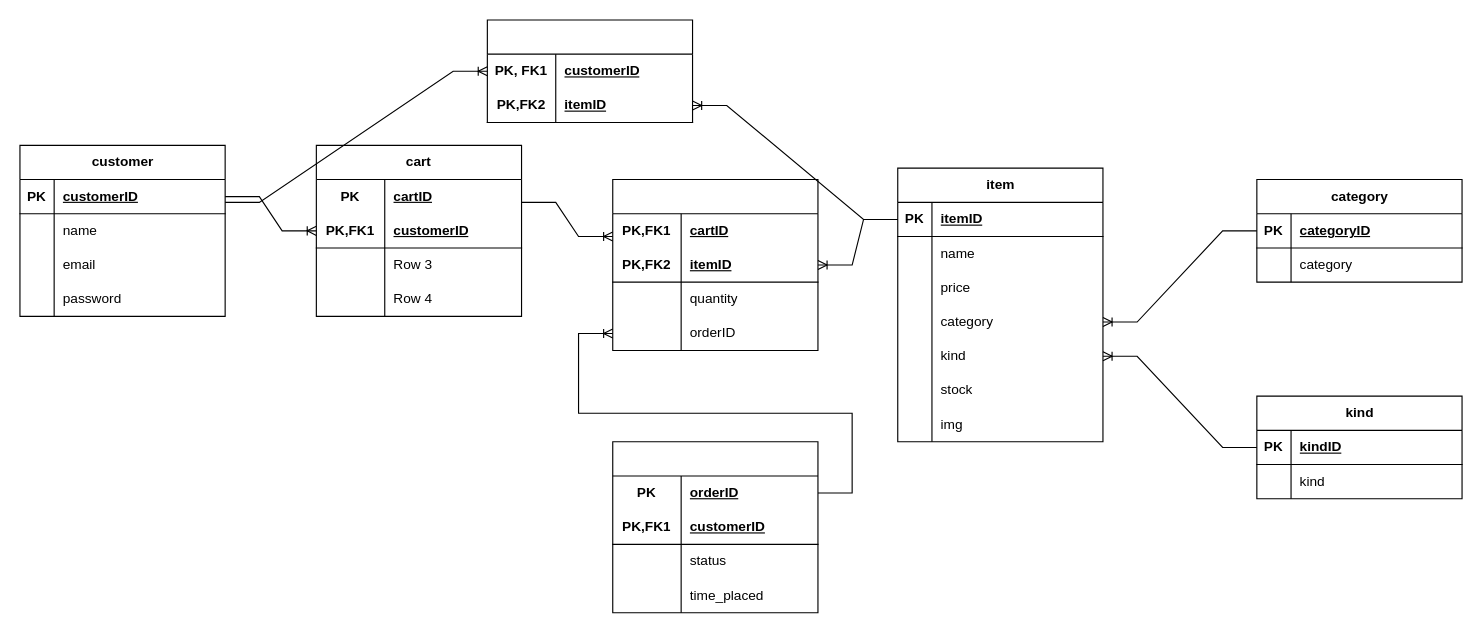
Image size: 1482x633. Some labels were removed from this diagram. Here are the shapes that lost their labels. From the top down, the box of each, then its label:
(486, 19, 693, 123): wishlist
(612, 178, 818, 351): cart_items
(612, 441, 818, 613): placedorder
